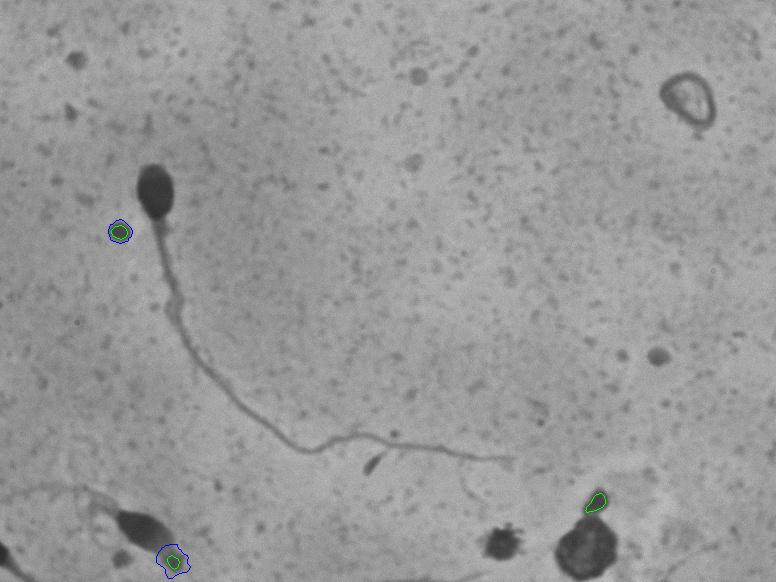Normal: (120, 149, 530, 472)
